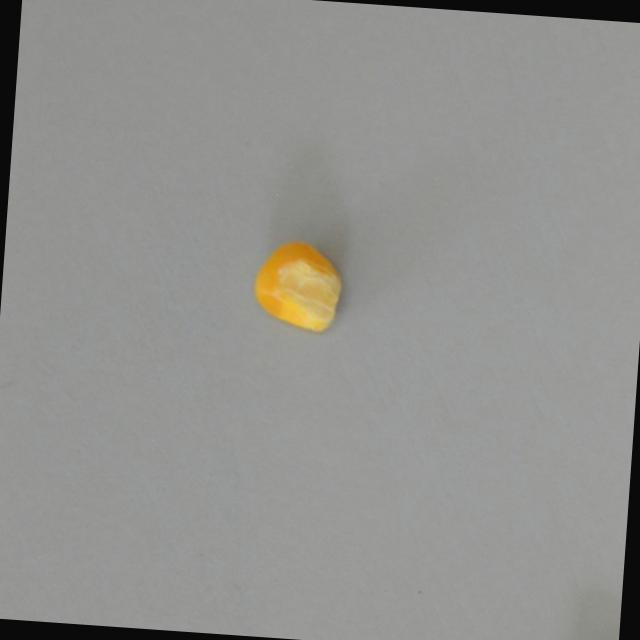pelicula: (250, 236, 346, 331)
